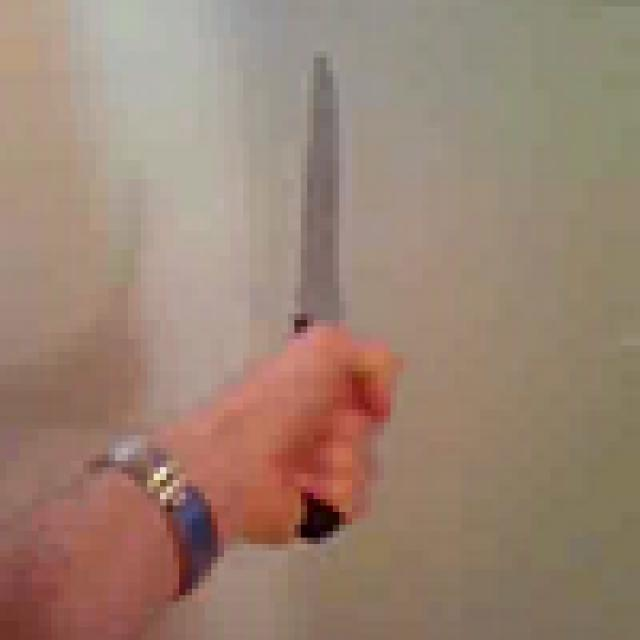knife: (249, 32, 416, 544)
